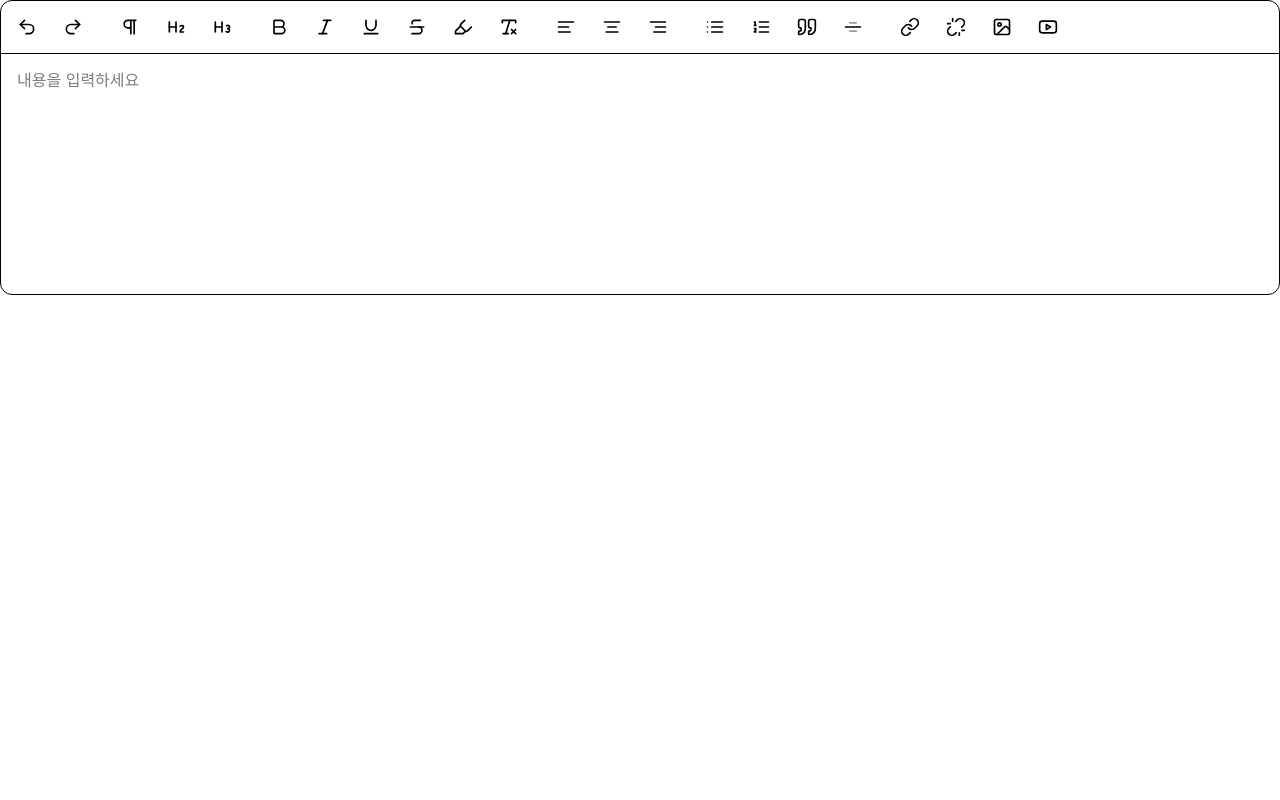
RichTextEditor › 영상 버튼은 유튜브 링크 다이얼로그를 body 에 띄우고, 잘못된 링크는 오류를 보여 준다
The image size is (1280, 800).
Click the button named "영상" at (1048,27), box [1026, 5, 1070, 49]
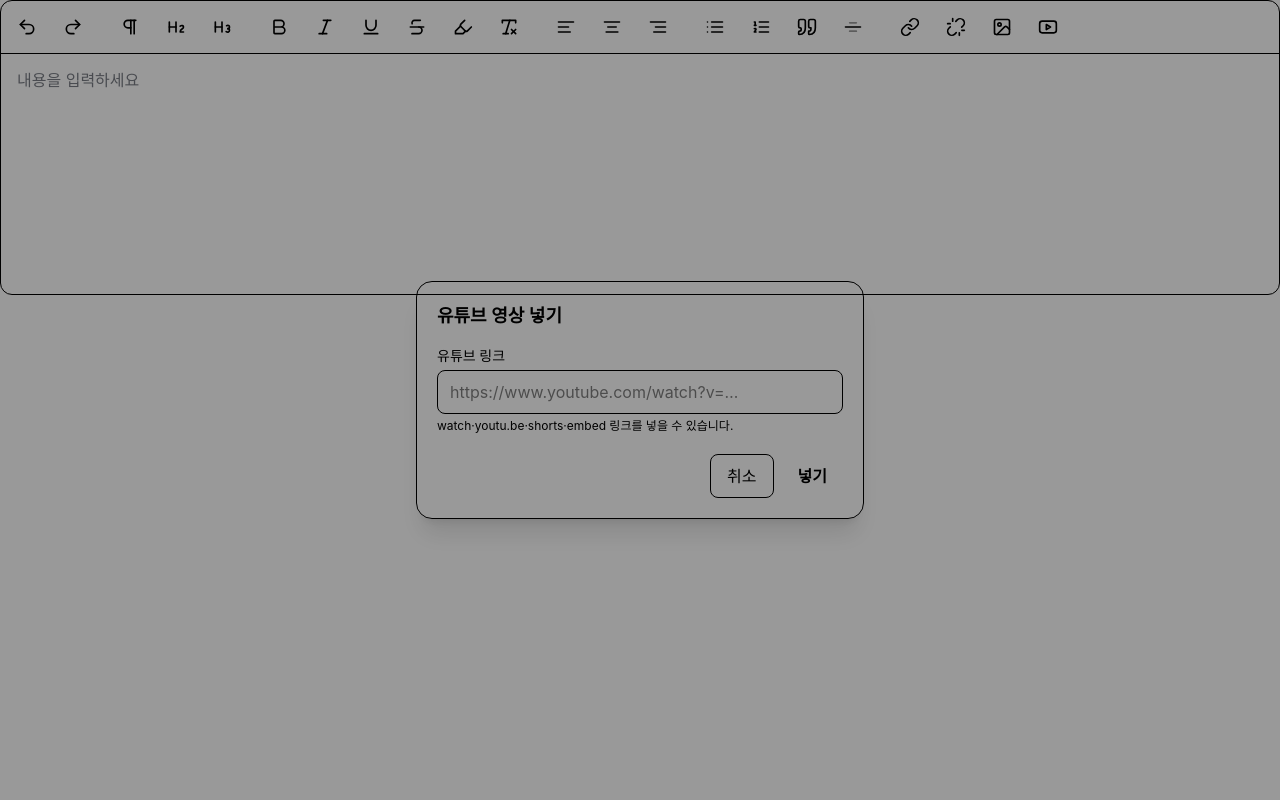
Now the dialog shows "유튜브 영상 넣기", box [437, 305, 562, 326]
Type "https://example.com/watch?v=x" into the field labelled "유튜브 링크" at (640,392), box [437, 370, 843, 414]
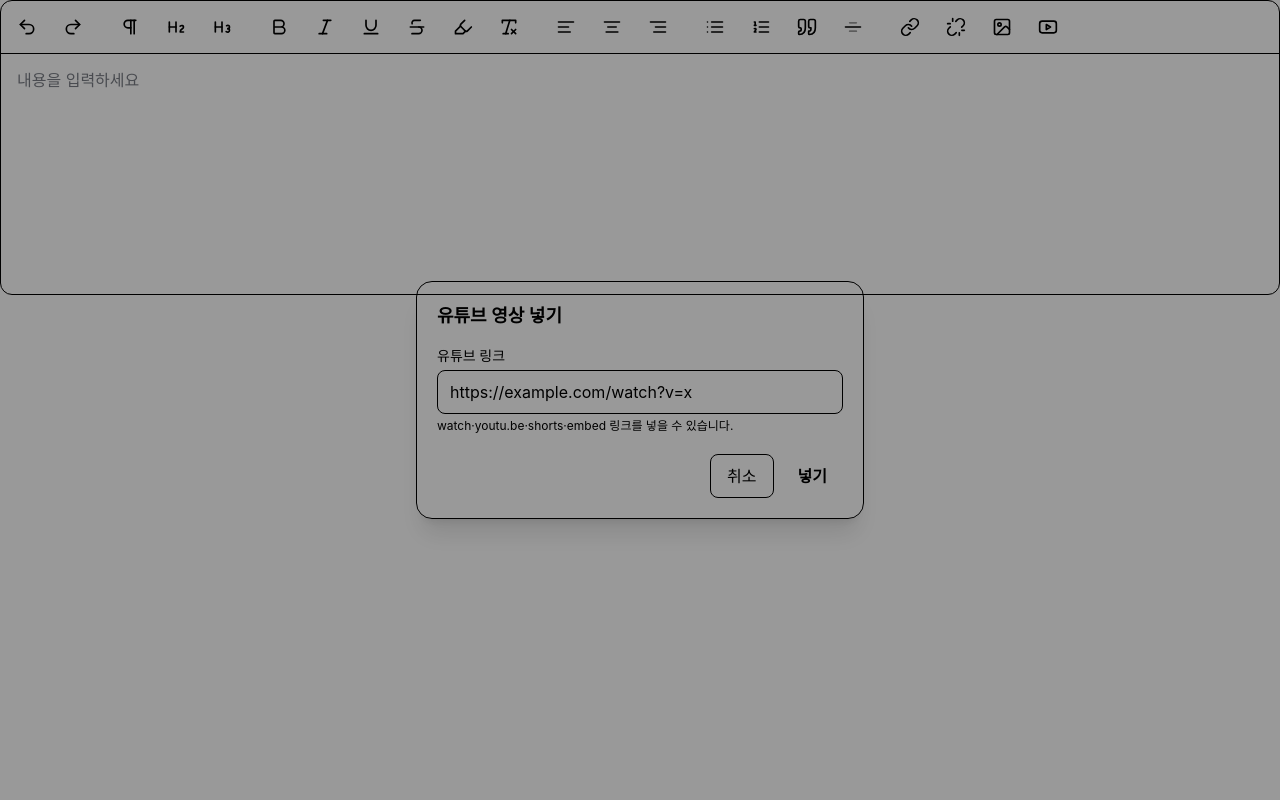
Click the button "넣기" at (812,476), box [782, 454, 843, 498]
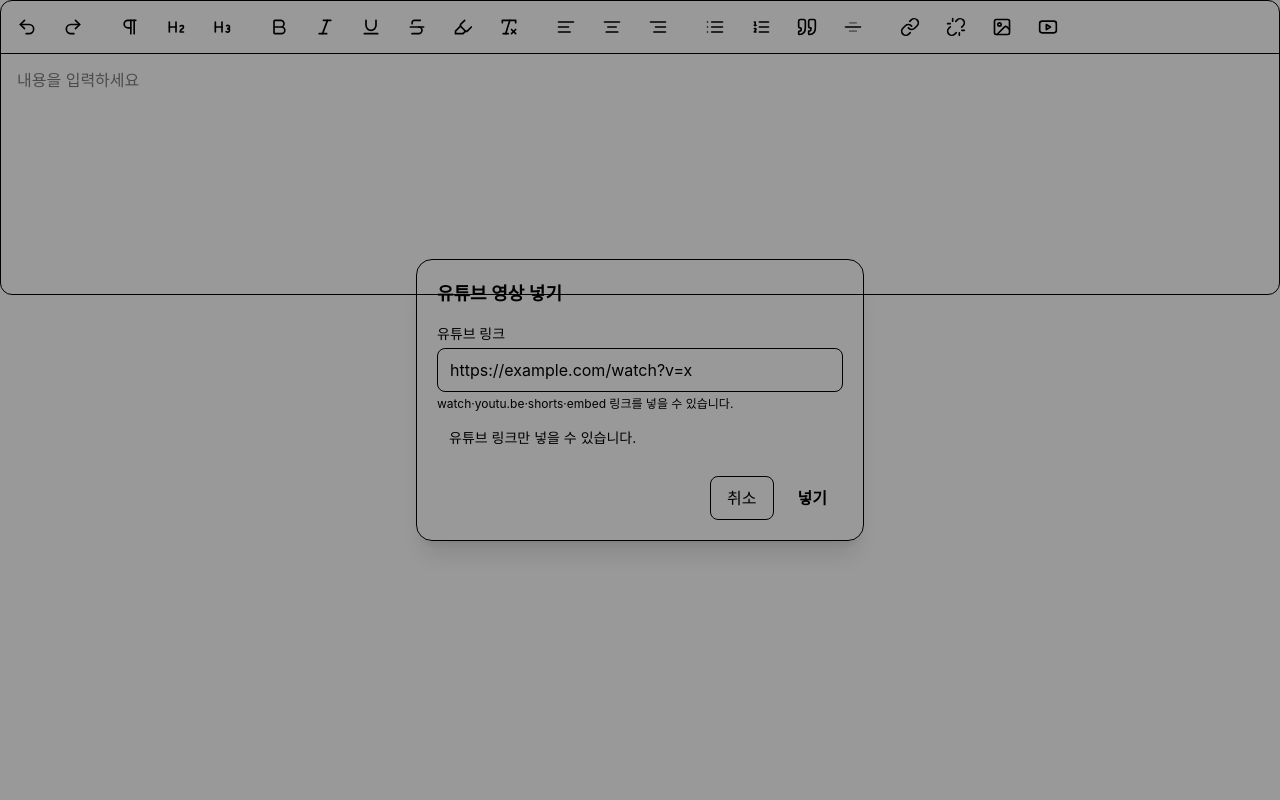
Now the message "유튜브 링크만 넣을 수 있습니다." is shown, box [449, 429, 636, 446]
